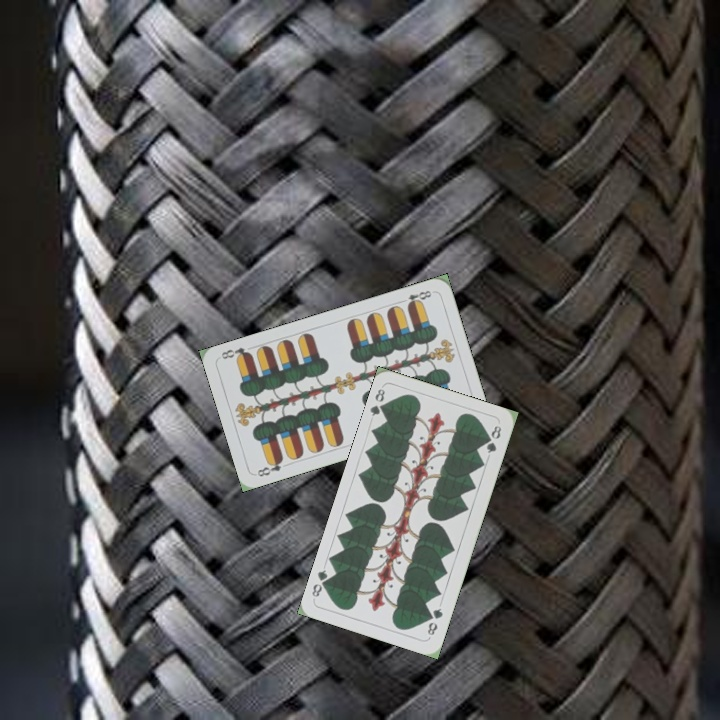E8: (396, 286, 434, 309), (253, 454, 286, 479)
G8: (366, 385, 390, 419), (423, 604, 445, 638)
